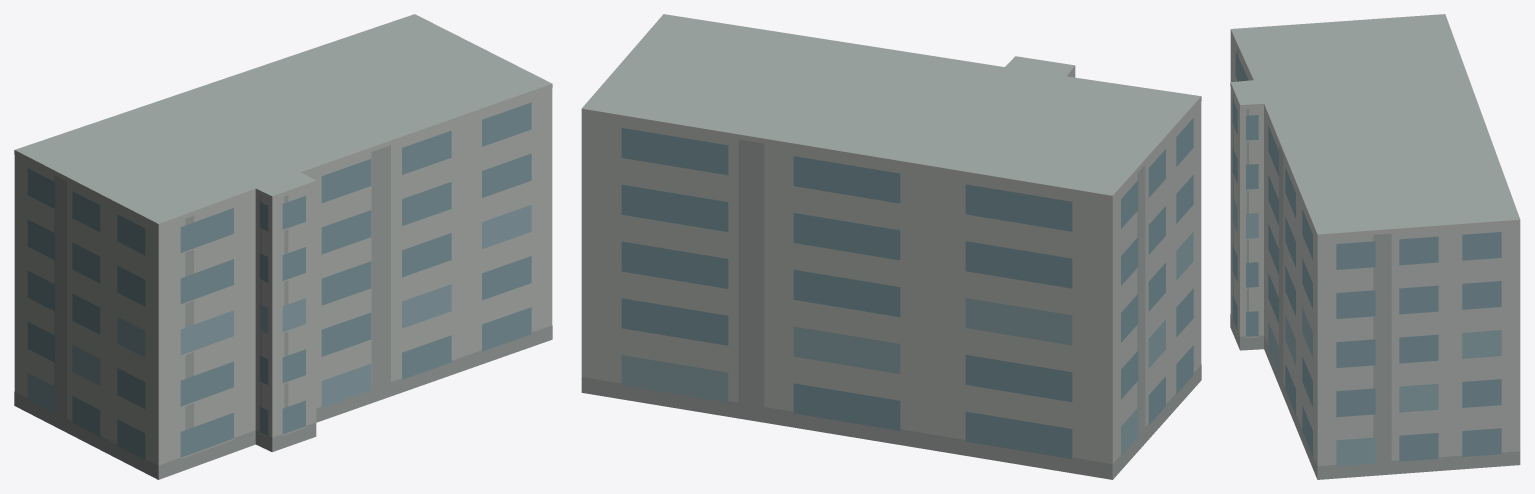
Rendered from survey-upis-32650860.glb.
3 views of the same model, side by side, from view 1: azimuth 30°, elevation 25°; view 2: azimuth 150°, elevation 25°; view 3: azimuth 270°, elevation 25° (orthographic). The views are drawn at different scales.
Visible parts, largest first — view 1: survey-upis-32650860.tmp; view 2: survey-upis-32650860.tmp; view 3: survey-upis-32650860.tmp.
Part boxes in pixels (x1=…): survey-upis-32650860.tmp: x1=14, y1=14, x2=552, y2=479; survey-upis-32650860.tmp: x1=581, y1=14, x2=1201, y2=479; survey-upis-32650860.tmp: x1=1230, y1=14, x2=1520, y2=479.
Bounding box in the file's own units: 26.03 × 13.5 × 14.46.
